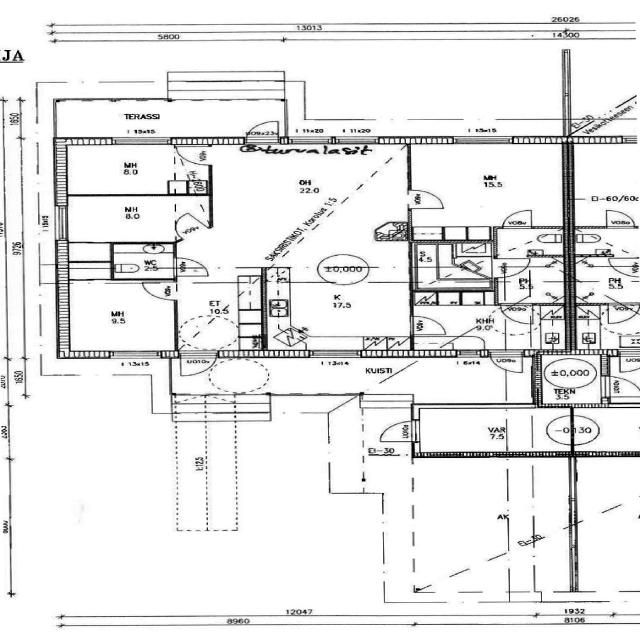door: (568, 412, 606, 443), (177, 350, 217, 377), (376, 419, 418, 443), (405, 187, 448, 210), (242, 118, 281, 142), (496, 207, 537, 229), (174, 144, 211, 168), (138, 279, 178, 301), (598, 207, 638, 229), (171, 213, 206, 236), (602, 375, 640, 396), (488, 351, 523, 373), (171, 256, 209, 276), (499, 304, 533, 326), (411, 315, 447, 335), (496, 260, 526, 280), (608, 259, 637, 278)
window: (49, 204, 72, 242), (450, 134, 514, 146), (110, 137, 172, 148), (305, 348, 364, 359), (106, 349, 162, 360), (287, 135, 331, 149), (333, 135, 376, 147), (526, 496, 539, 518), (452, 350, 483, 359), (442, 599, 481, 606), (379, 562, 389, 582), (407, 489, 417, 508), (408, 516, 418, 534)
zone: (407, 142, 567, 230), (412, 458, 511, 572), (271, 280, 414, 353), (62, 278, 177, 354), (59, 144, 207, 196), (61, 196, 192, 243), (568, 142, 640, 227), (175, 277, 256, 351), (411, 292, 506, 351), (415, 407, 512, 456), (571, 457, 640, 519), (412, 242, 494, 288), (569, 256, 640, 306), (539, 353, 602, 405), (496, 260, 565, 303), (110, 243, 176, 279), (492, 227, 565, 258), (569, 228, 639, 256)
